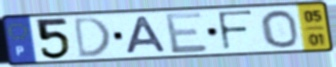5: (33, 16, 74, 60)
A: (124, 15, 169, 56)
D: (72, 15, 113, 60)
E: (163, 10, 211, 56)
F: (216, 9, 256, 53)
O: (258, 9, 301, 49)
